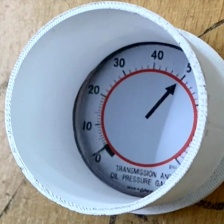gauge: (73, 42, 200, 198)
